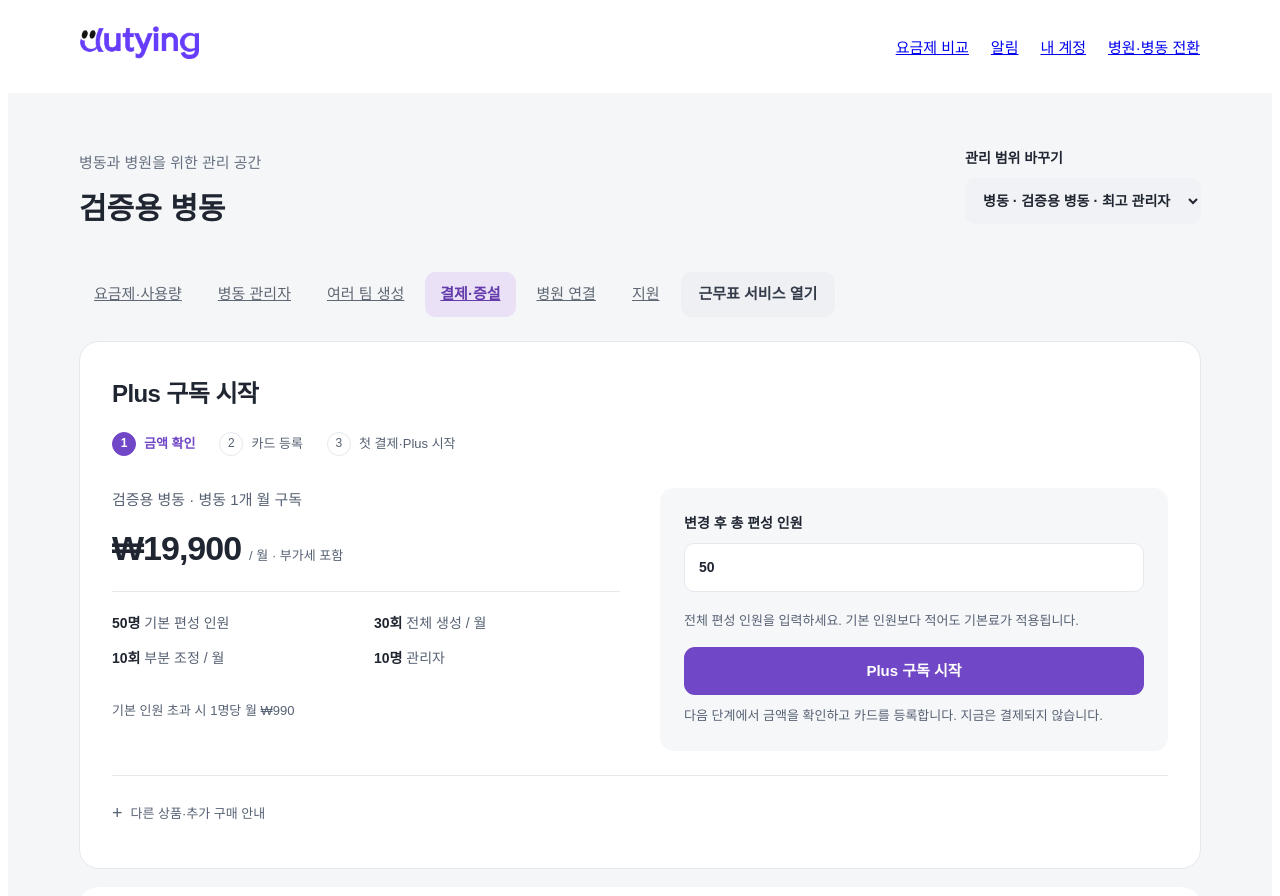
Test: Plus checkout before card registration › keeps checkout intact when the server returns malformed quote JSON
Click the button "Plus 구독 시작": (914, 671) [684,647,1144,695]
(page scrolled)
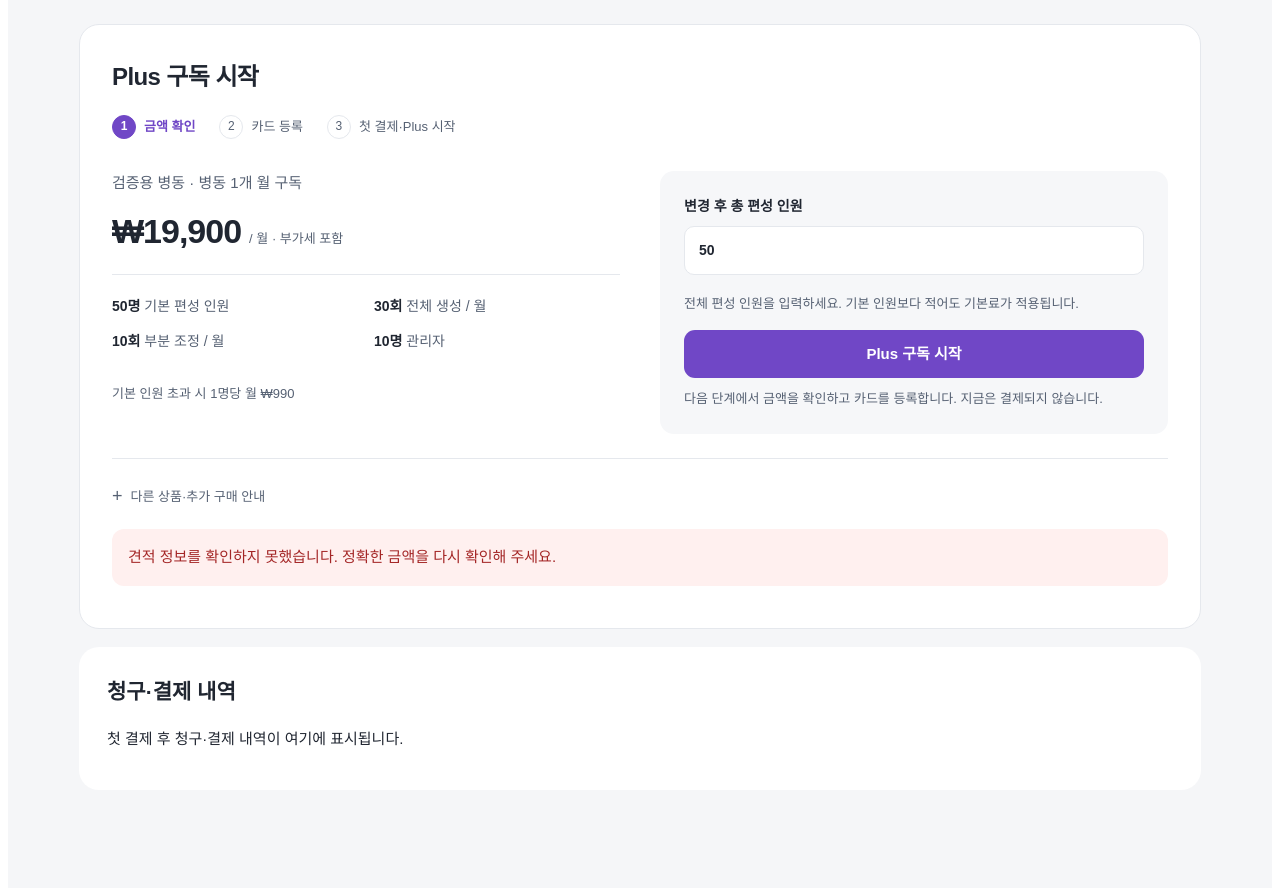
Expected: the message shows "견적 정보를 확인하지 못했습니다", [128,548,556,565]
